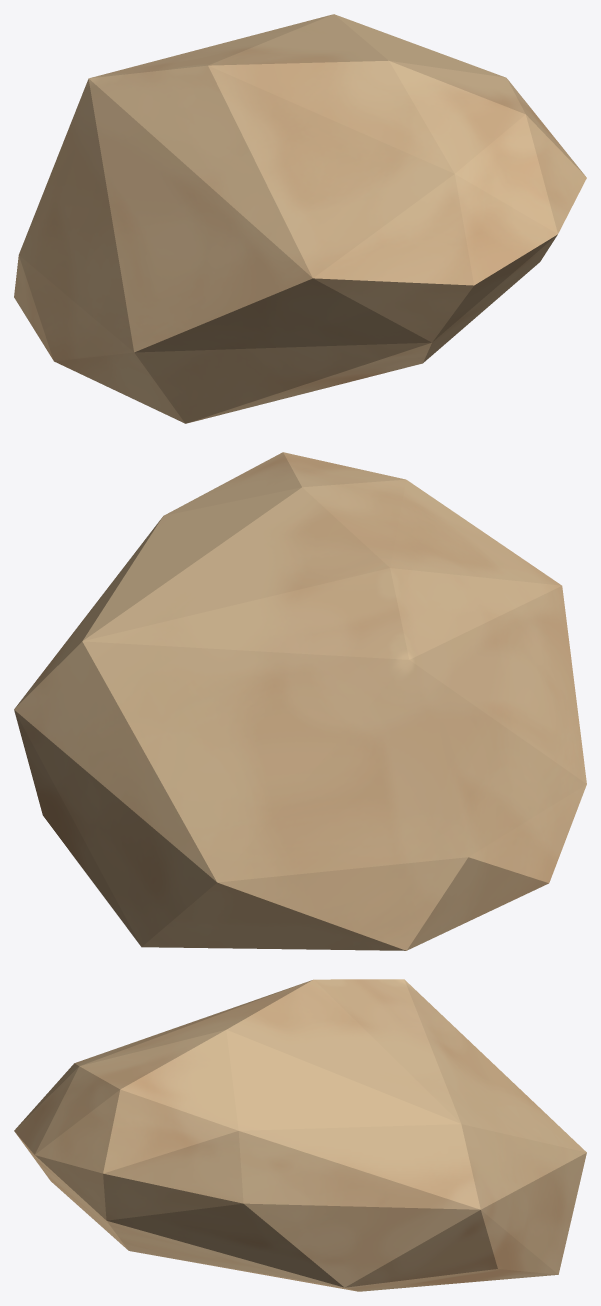
File: Rock_02.fbx
The picture shows the model from 3 angles, top to bottom: view 1: azimuth 30°, elevation 25°; view 2: azimuth 150°, elevation 25°; view 3: azimuth 270°, elevation 25°; orthographic projection. The views are drawn at different scales.
Parts seen in each view (by area): view 1: Rock_02; view 2: Rock_02; view 3: Rock_02.
Part boxes in pixels (x1,y1,x2,y2): Rock_02: (14, 14, 586, 423); Rock_02: (14, 452, 586, 950); Rock_02: (14, 979, 586, 1291).
Size of the model in its own units: 355 by 239 by 457.
